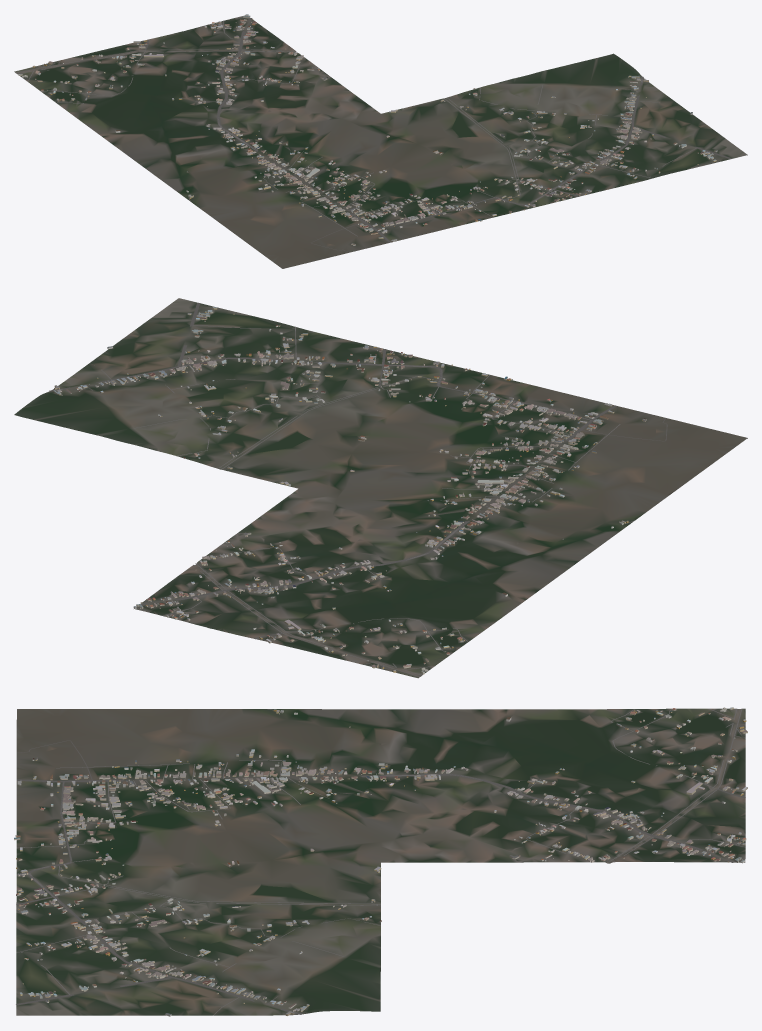
3 views of the same model, one above another, from view 1: azimuth 30°, elevation 25°; view 2: azimuth 150°, elevation 25°; view 3: azimuth 270°, elevation 25° (orthographic). The views are drawn at different scales.
Parts seen in each view (by area): view 1: ground, buildings, roads; view 2: ground, buildings, roads; view 3: ground, buildings, roads.
Part boxes in pixels (left/top/right/bottom): ground: left=14, top=15, right=747, bottom=268; buildings: left=18, top=14, right=717, bottom=245; roads: left=16, top=18, right=731, bottom=252; ground: left=14, top=298, right=747, bottom=678; buildings: left=53, top=307, right=646, bottom=674; roads: left=49, top=302, right=667, bottom=676; ground: left=16, top=708, right=745, bottom=1015; buildings: left=14, top=707, right=747, bottom=1016; roads: left=16, top=708, right=745, bottom=1015.
Bounding box in the file's own units: 2808 × 29.44 × 2820.
